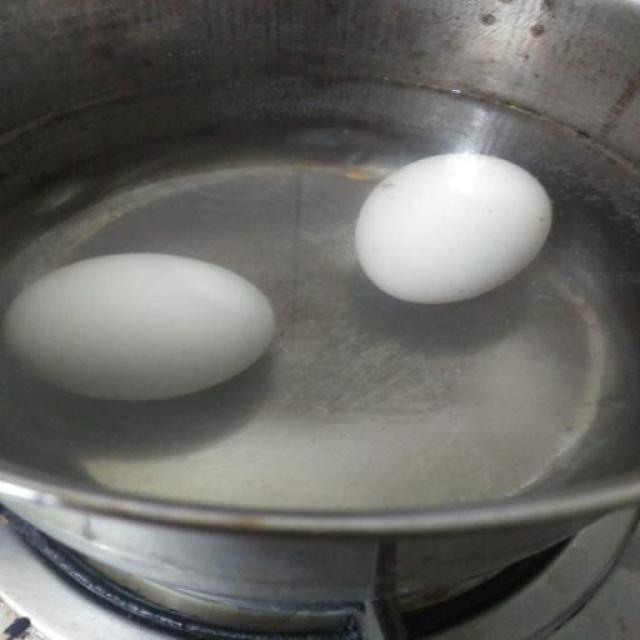telur: (5, 252, 273, 403), (354, 153, 550, 304)
